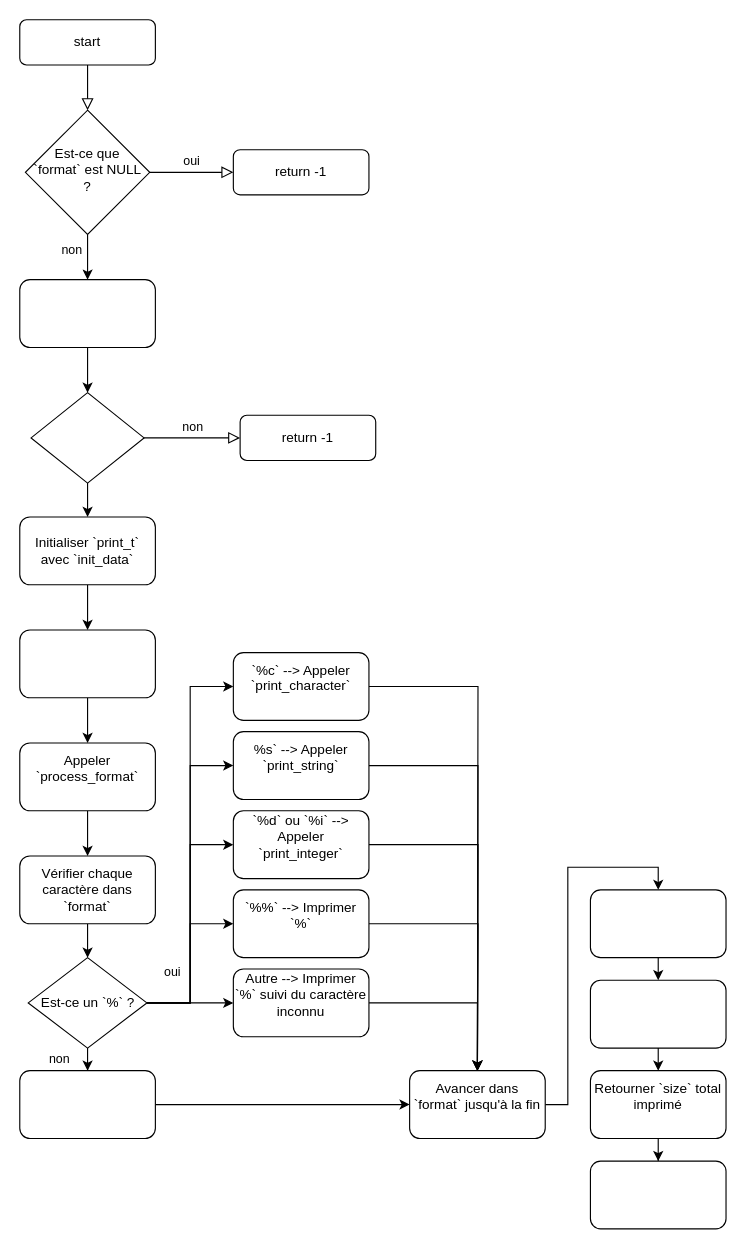
This 746x1249 diagram has some shape labels left out. The shapes that lost their labels are listed below. From the top down, each one's centre as x and y in pixels, then its label:
the point at 87,313: allouer la struct print_t
the point at 87,437: allocation réussi
the point at 87,663: Lancer `va_start` pour les arguments
the point at 657,923: Fermer `va_end`
the point at 657,1013: Libérer la mémoire de `print_t`
the point at 87,1104: Imprimer le caractère, incrémenter `size`
the point at 657,1194: Fin
